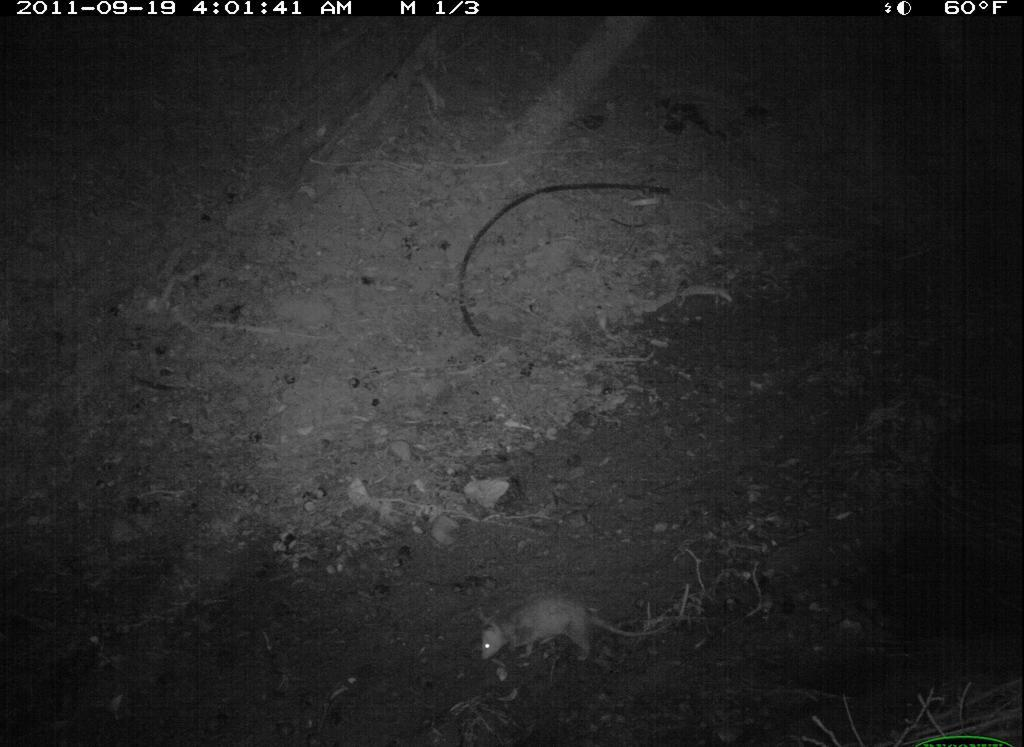opossum: (471, 591, 680, 668)
